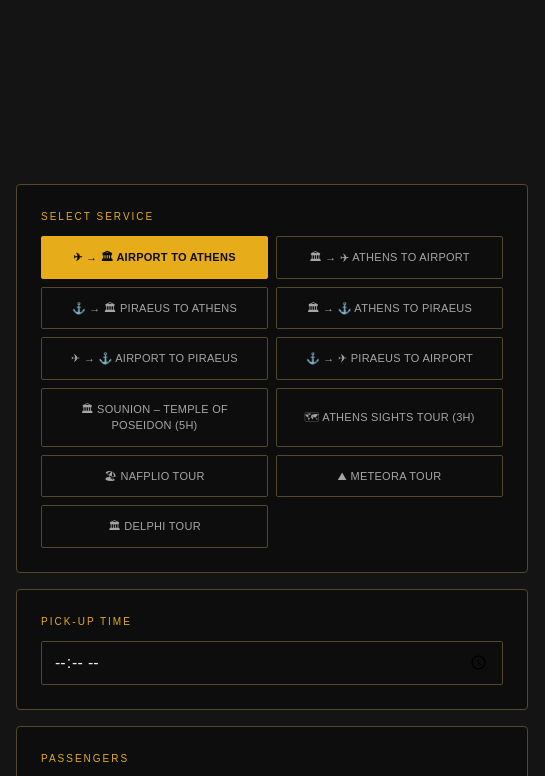
unchanged calculator fares and customer-initiated email drafts › keeps the port_to_athens fixed fare at €55
Click the button "⚓ → 🏛 Piraeus to Athens" at (154, 308), box left=41, top=286, right=268, bottom=329
(page scrolled)
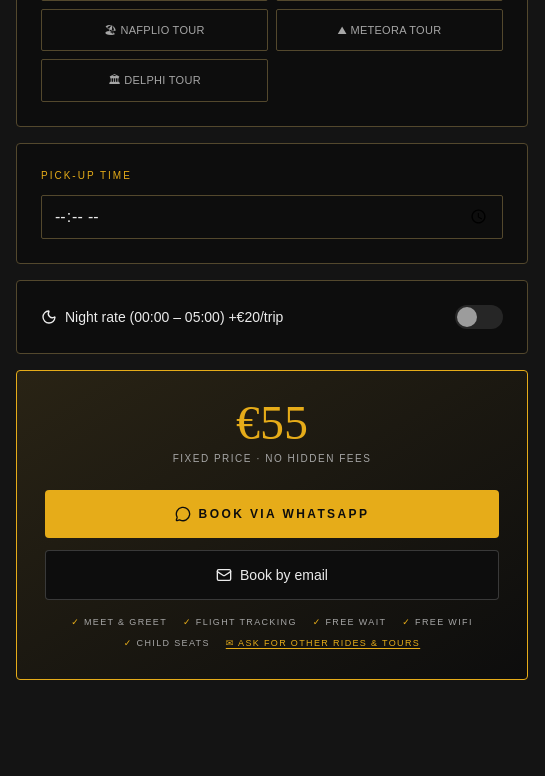
Check: the text "€55" is shown, box left=236, top=396, right=308, bottom=448
